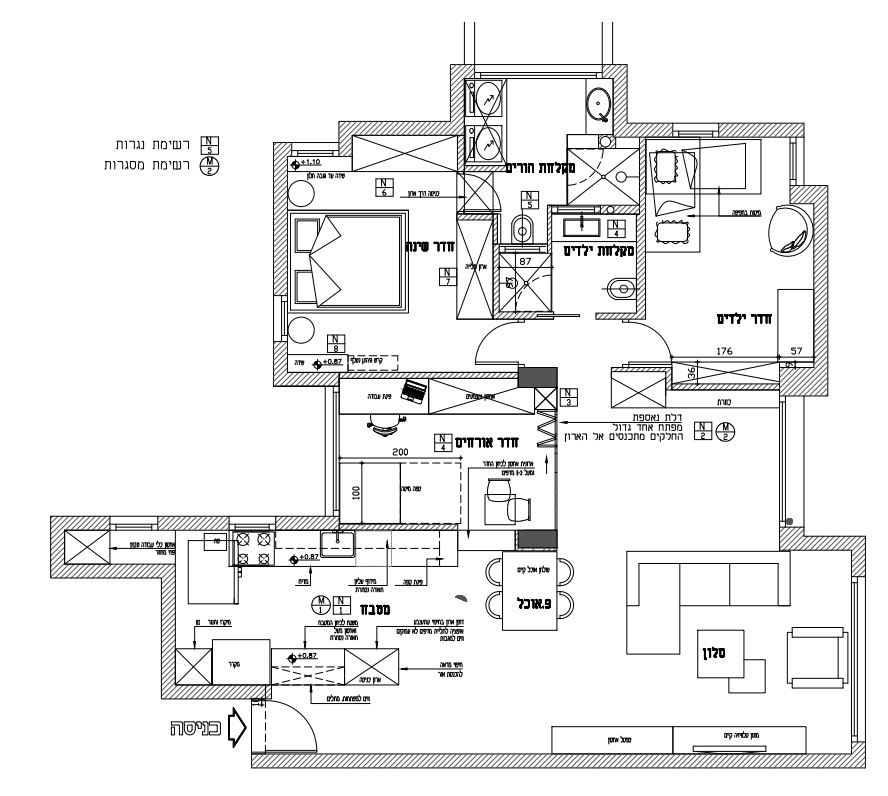door: (779, 396, 804, 527), (272, 695, 322, 754), (851, 575, 866, 743), (471, 321, 514, 369), (633, 319, 676, 367), (325, 386, 340, 516), (475, 64, 602, 79), (672, 122, 719, 139), (789, 138, 805, 186), (272, 296, 288, 341), (110, 516, 157, 531), (228, 517, 275, 532), (292, 142, 339, 157)
wall: (251, 753, 865, 768), (812, 185, 828, 397), (161, 564, 176, 699), (274, 144, 287, 297), (339, 121, 464, 136), (50, 564, 177, 578), (164, 684, 272, 700), (448, 64, 466, 135), (274, 373, 339, 387)
